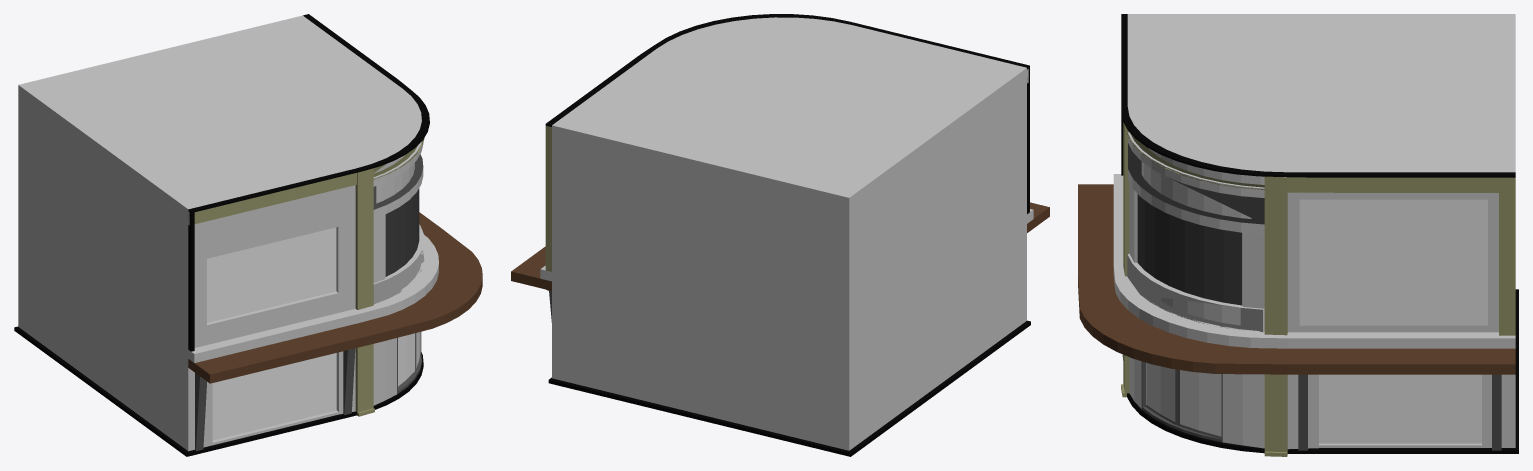
Rendered from Shoppingventer.fbx.
3 renders of one model, left to right at view 1: azimuth 30°, elevation 25°; view 2: azimuth 150°, elevation 25°; view 3: azimuth 270°, elevation 25°, orthographic. The views are drawn at different scales.
Visible parts, largest first — view 1: Cube, Cube.001; view 2: Cube; view 3: Cube, Plane, Cube.001.
Part boxes in pixels (x1=…): Cube: x1=14, y1=14, x2=482, y2=456; Cube.001: x1=207, y1=227, x2=420, y2=440; Cube: x1=511, y1=14, x2=1049, y2=456; Cube: x1=1078, y1=14, x2=1518, y2=456; Plane: x1=1299, y1=199, x2=1487, y2=325; Cube.001: x1=1146, y1=362, x2=1481, y2=443.
Bounding box in the file's own units: 4518 × 3257 × 4635.
